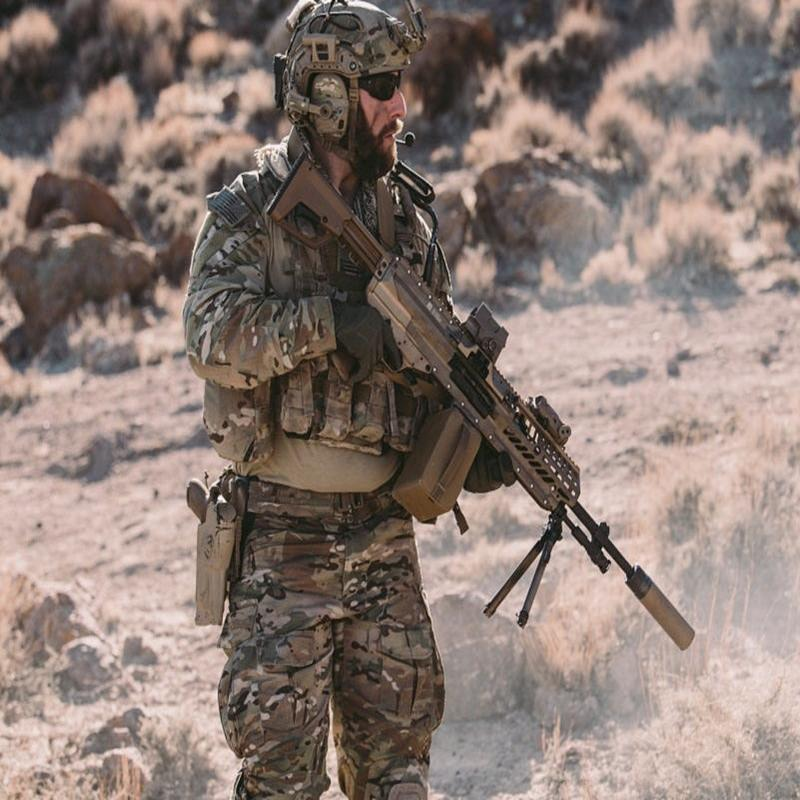GUN: (251, 152, 705, 669)
